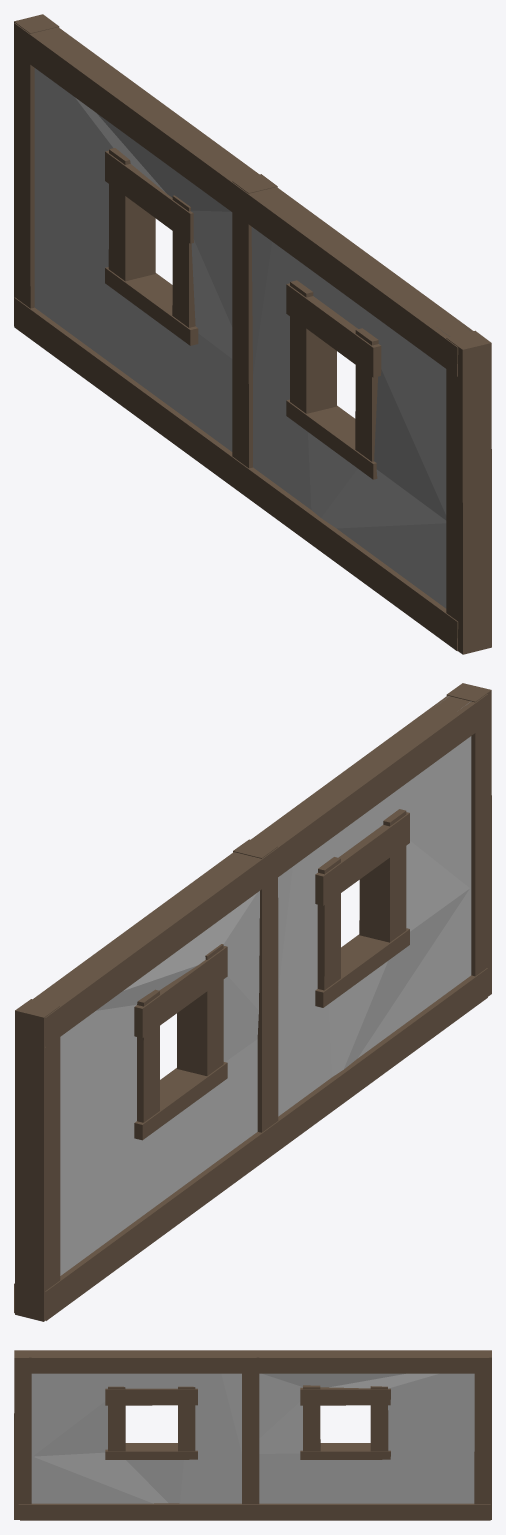
Rendered from EA03_Village_Hut_Wall_Front_04b.glb.
The picture shows the model from 3 angles, top to bottom: view 1: azimuth 30°, elevation 25°; view 2: azimuth 150°, elevation 25°; view 3: azimuth 270°, elevation 25°; orthographic projection. The views are drawn at different scales.
Parts seen in each view (by area): view 1: EA03_Village_Hut_Wall_Front_04b; view 2: EA03_Village_Hut_Wall_Front_04b; view 3: EA03_Village_Hut_Wall_Front_04b.
Part boxes in pixels (x1,y1,x2,y2): EA03_Village_Hut_Wall_Front_04b: (14,14,491,654); EA03_Village_Hut_Wall_Front_04b: (14,683,491,1321); EA03_Village_Hut_Wall_Front_04b: (14,1350,491,1520).
Size of the model in its own units: 0.3578 by 2.98 by 7.95.
1 material, 1 textured.
